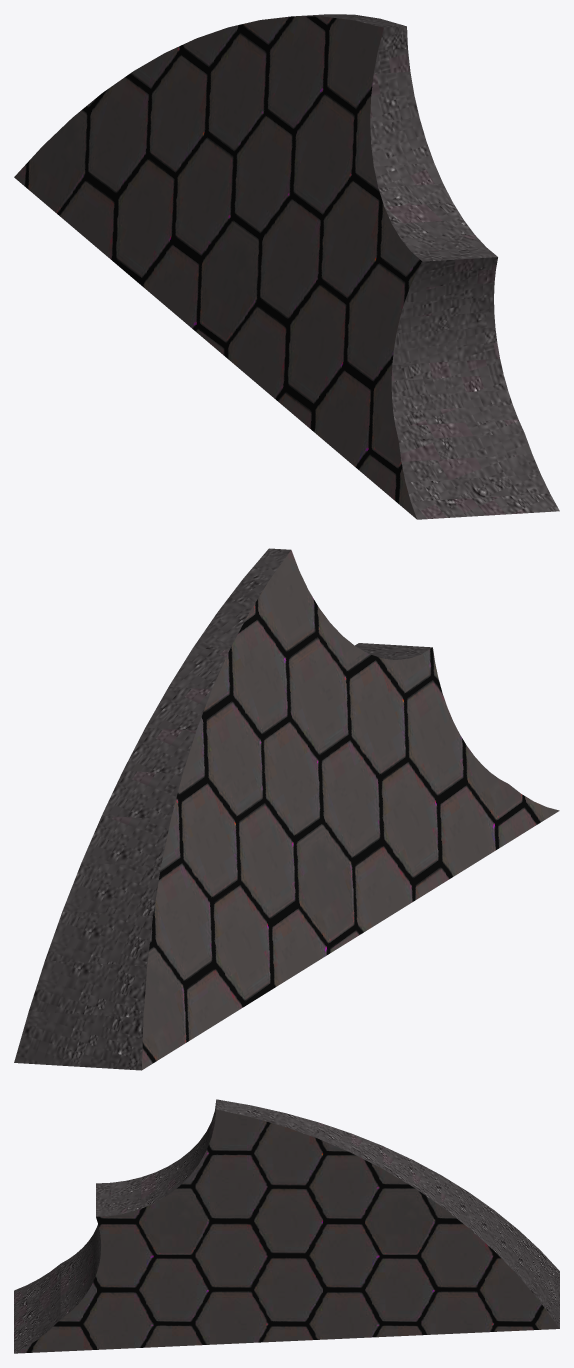
Rendered from wing_r2.obj.
3 renders of one model, top to bottom at view 1: azimuth 30°, elevation 25°; view 2: azimuth 150°, elevation 25°; view 3: azimuth 270°, elevation 25°, orthographic. The views are drawn at different scales.
Visible parts, largest first — view 1: togezo_koura-SKP--_Tile_Hexagon_White_r2, togezo_koura-SKP--_Asphalt_New_r2; view 2: togezo_koura-SKP--_Tile_Hexagon_White_r2, togezo_koura-SKP--_Asphalt_New_r2; view 3: togezo_koura-SKP--_Tile_Hexagon_White_r2, togezo_koura-SKP--_Asphalt_New_r2.
Boxes of the visible parts, x1,y1,x2,y2 form: togezo_koura-SKP--_Tile_Hexagon_White_r2: [14, 16, 422, 519]; togezo_koura-SKP--_Asphalt_New_r2: [296, 14, 559, 519]; togezo_koura-SKP--_Tile_Hexagon_White_r2: [141, 550, 559, 1070]; togezo_koura-SKP--_Asphalt_New_r2: [14, 548, 432, 1070]; togezo_koura-SKP--_Tile_Hexagon_White_r2: [14, 1109, 559, 1353]; togezo_koura-SKP--_Asphalt_New_r2: [14, 1099, 559, 1353].
Bounding box in the file's own units: 0.1448 × 0.3624 × 0.7253.
Materials: 3 (2 with a texture image).
